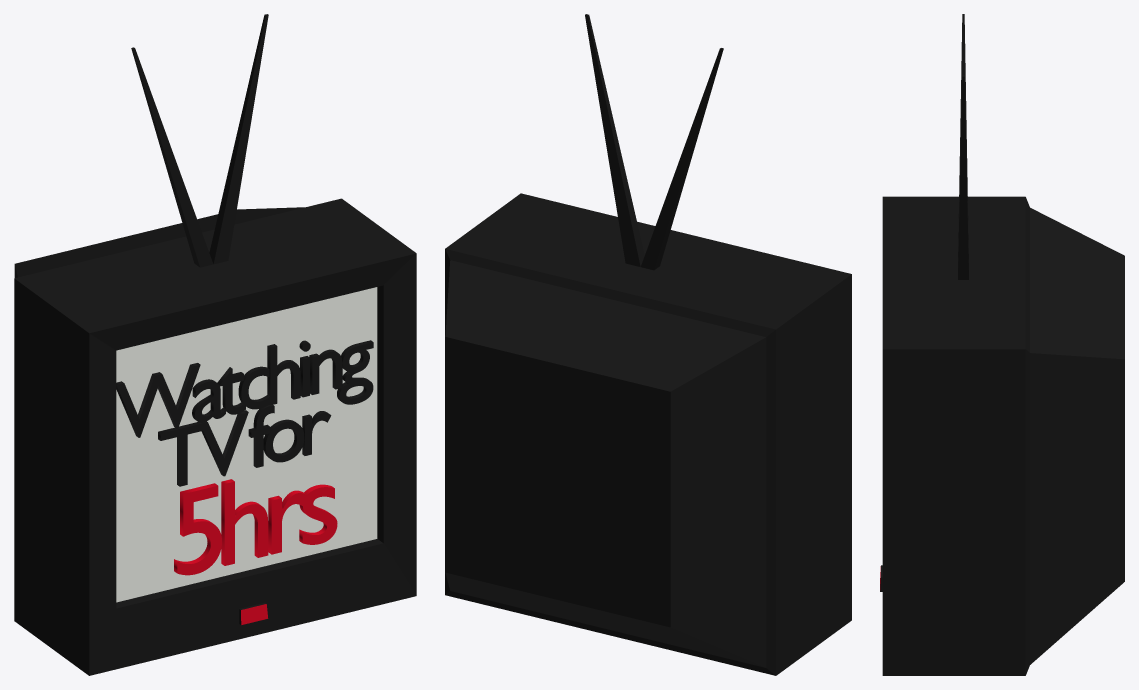
3 renders of one model, left to right at view 1: azimuth 30°, elevation 25°; view 2: azimuth 150°, elevation 25°; view 3: azimuth 270°, elevation 25°, orthographic. The views are drawn at different scales.
Visible parts, largest first — view 1: tv, Text, Text.001; view 2: tv; view 3: tv.
Boxes of the visible parts, x1=… form: tv: x1=14, y1=14, x2=416, y2=675; Text: x1=116, y1=340, x2=373, y2=486; Text.001: x1=174, y1=479, x2=337, y2=575; tv: x1=445, y1=14, x2=851, y2=675; tv: x1=880, y1=14, x2=1124, y2=675.
Bounding box in the file's own units: 2181 × 3669 × 1480.
